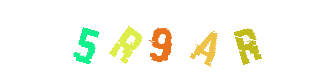5: (46, 0, 126, 80)
9: (124, 0, 204, 80)
A: (127, 0, 207, 80)
R: (121, 0, 201, 80), (207, 0, 287, 80)
